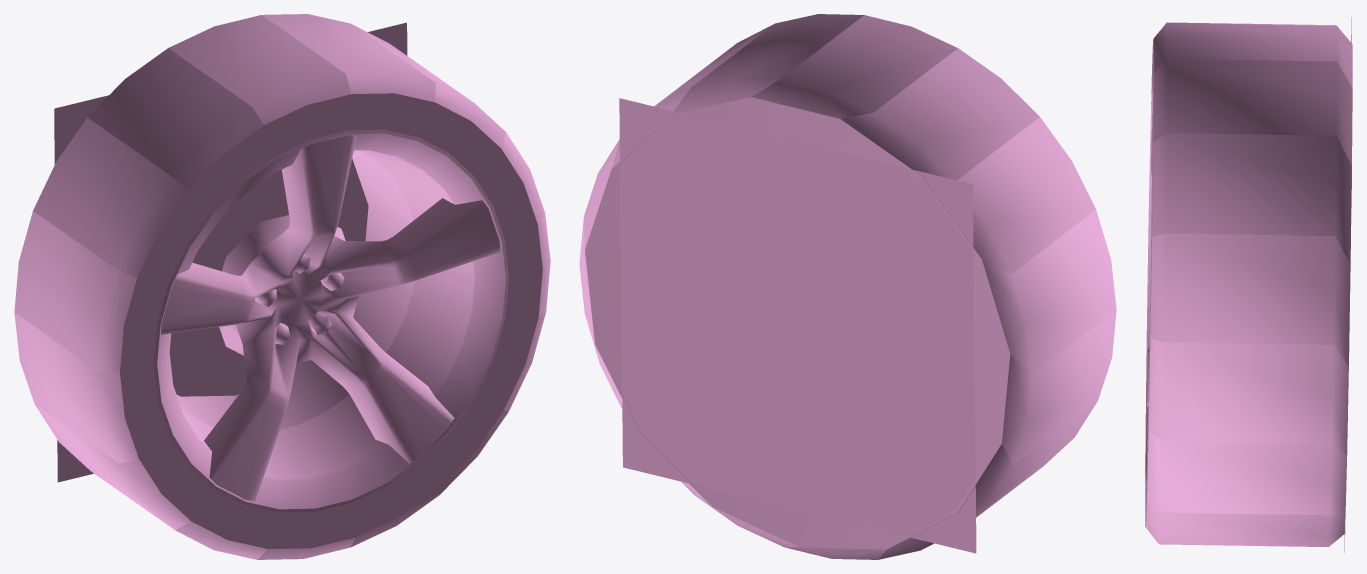
Rendered from Llanta_Izq.obj.
3 views of the same model, side by side, from view 1: azimuth 30°, elevation 25°; view 2: azimuth 150°, elevation 25°; view 3: azimuth 270°, elevation 25° (orthographic).
Parts seen in each view (by area): view 1: TireRL; view 2: TireRL; view 3: TireRL.
Part boxes in pixels (<box>): TireRL: <box>14,14,550,559</box>; TireRL: <box>579,14,1116,559</box>; TireRL: <box>1145,17,1352,552</box>.
Size of the model in its own units: 0.7431 by 0.7431 by 0.2942.
